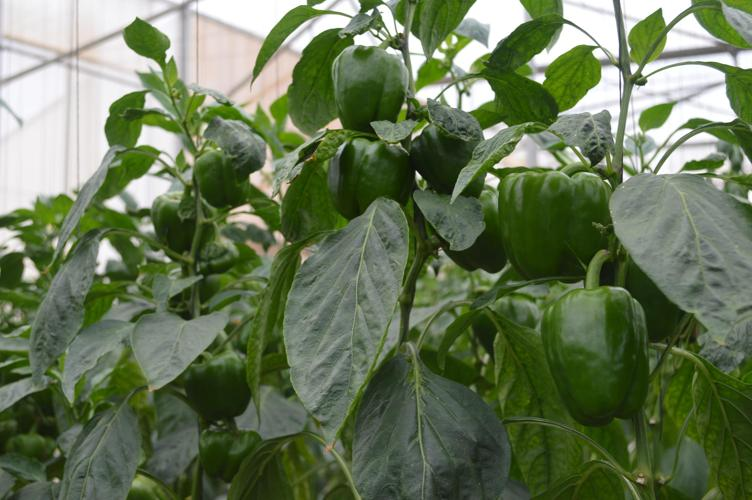BellPepper: (545, 279, 642, 424), (495, 172, 613, 276), (406, 116, 485, 199), (322, 137, 410, 209), (326, 42, 404, 122), (451, 193, 502, 274), (185, 355, 246, 415), (477, 296, 532, 356), (182, 156, 251, 202), (149, 196, 210, 247), (195, 434, 260, 474)
